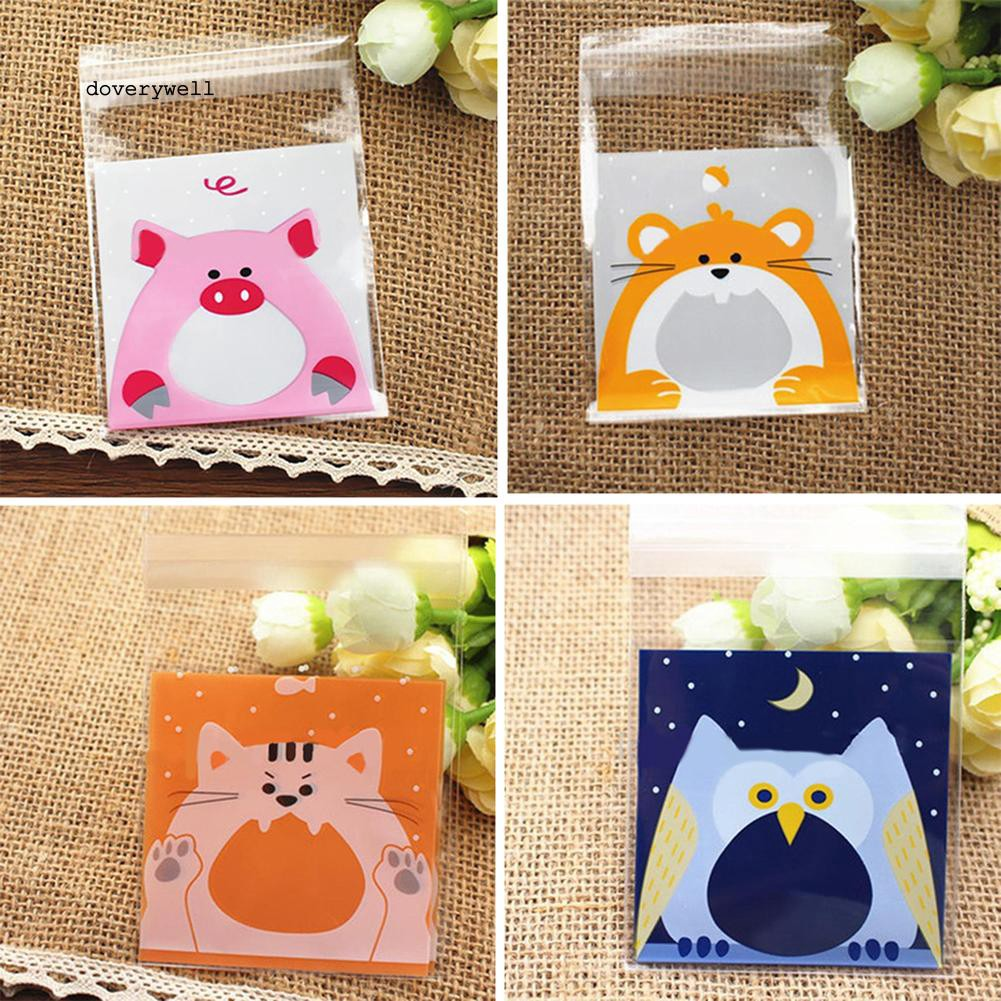Snack: (66, 29, 415, 443)
